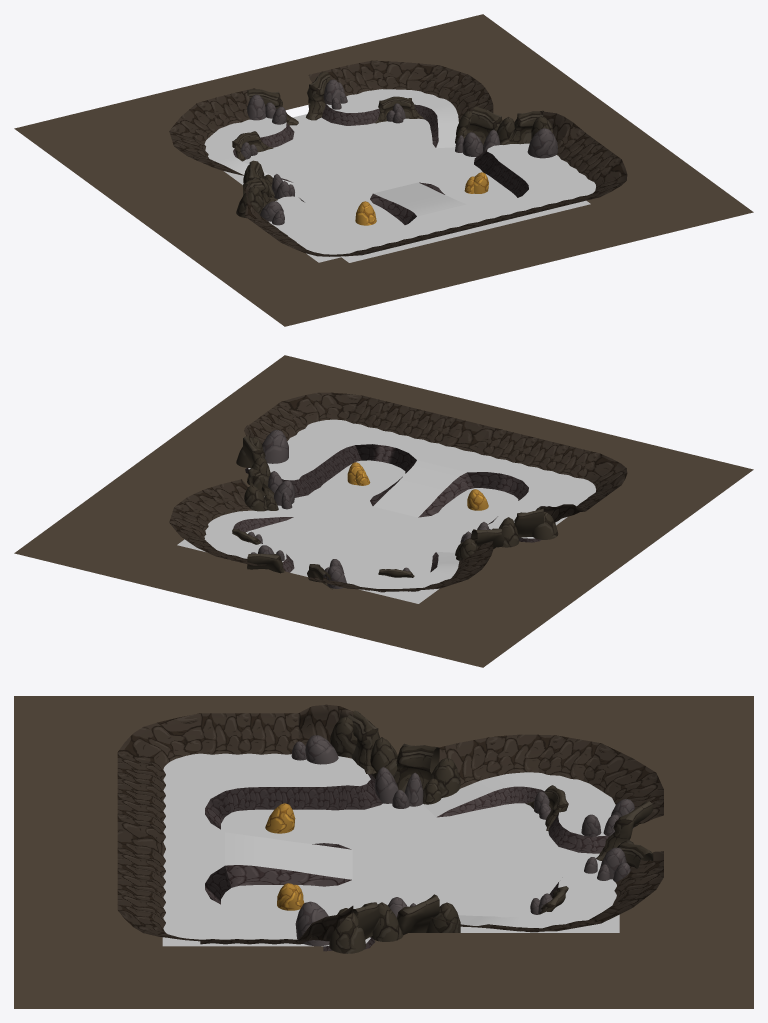
Rendered from arena.fbx.
3 renders of one model, top to bottom at view 1: azimuth 30°, elevation 25°; view 2: azimuth 150°, elevation 25°; view 3: azimuth 270°, elevation 25°, orthographic. The views are drawn at different scales.
Visible parts, largest first — view 1: emersion_protector, arena_floor, r_ramp, mainramp, wall4 (×2), l_ramp, wall5 (×2), wall2 (×2), polySurface197, polySurface196, wall6, polySurface219 (+12 smaller); view 2: emersion_protector, arena_floor, mainramp, wall_connector (×2), r_ramp, l_ramp, polySurface197, polySurface196, wall3 (×2), wall4 (×2), wall5 (×2), wall2 (×2) (+12 smaller); view 3: emersion_protector, arena_floor, mainramp, l_ramp, wall4 (×4), wall2 (×2), wall5 (×4), r_ramp, wall_connector (×2), polySurface197, polySurface196, mini_wall (×3) (+34 smaller).
Part boxes in pixels (x1,y1,x2,y2): emersion_protector: (14,14,753,326); arena_floor: (209,114,590,262); r_ramp: (322,89,458,148); mainramp: (370,182,486,231); wall4 (×2): (169,60,439,143); l_ramp: (204,117,294,184); wall5 (×2): (197,60,381,128); wall2 (×2): (447,74,621,181); polySurface197: (467,189,548,218); polySurface196: (355,216,437,246); wall6: (419,65,467,99); polySurface219: (489,155,543,188); emersion_protector: (14,355,753,667); arena_floor: (177,460,518,603); mainramp: (370,444,488,517); wall_connector (×2): (281,392,627,491); r_ramp: (204,509,294,572); l_ramp: (343,552,459,592); polySurface197: (355,429,439,470); polySurface196: (467,456,550,498); wall3 (×2): (346,395,599,478); wall4 (×2): (377,403,568,470); wall5 (×2): (408,411,537,463); wall2 (×2): (174,402,307,523); emersion_protector: (14,696,753,1008); arena_floor: (221,803,619,932); mainramp: (163,832,352,887); l_ramp: (422,772,615,853); wall4 (×4): (117,743,655,923); wall2 (×2): (200,713,555,777); wall5 (×4): (117,773,663,904); r_ramp: (458,867,616,931); wall_connector (×2): (118,713,200,941); polySurface197: (163,865,231,906); polySurface196: (163,791,231,832); mini_wall (×3): (117,814,663,885).
Size of the model in its own units: 736 by 61.68 by 736.
